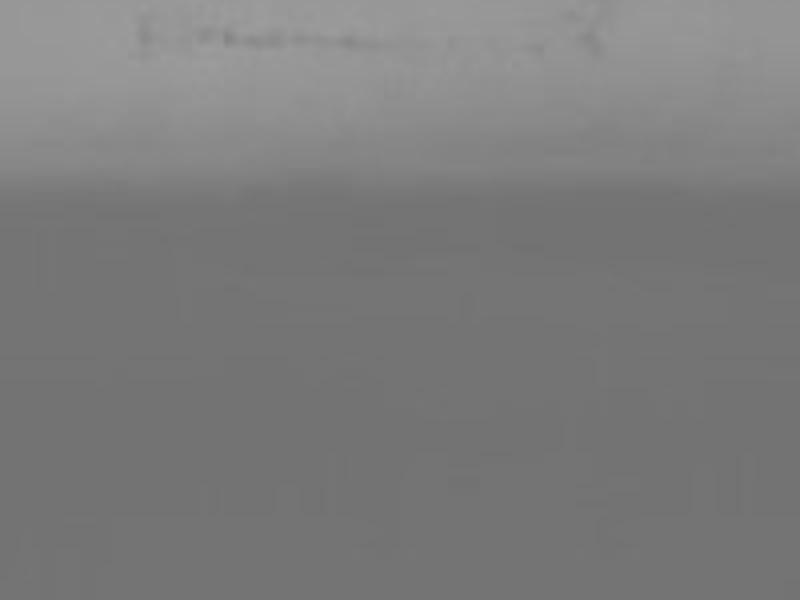defect: (128, 24, 156, 52), (262, 25, 284, 47), (577, 28, 599, 50), (243, 32, 264, 53), (338, 31, 356, 49), (592, 10, 610, 28), (192, 26, 209, 43), (222, 27, 238, 43), (529, 40, 545, 56), (569, 6, 584, 21), (314, 34, 327, 47), (293, 33, 304, 44)
